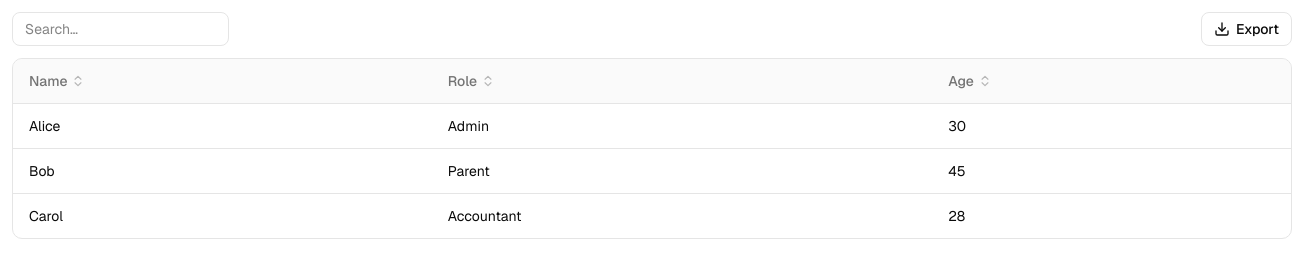
Test: DataTable › filters rows by global filter
The width and height of the screenshot is (1304, 256).
Type "Alice" into the search field.
click(120, 29); type("Alice")  # box [12,12,229,46]
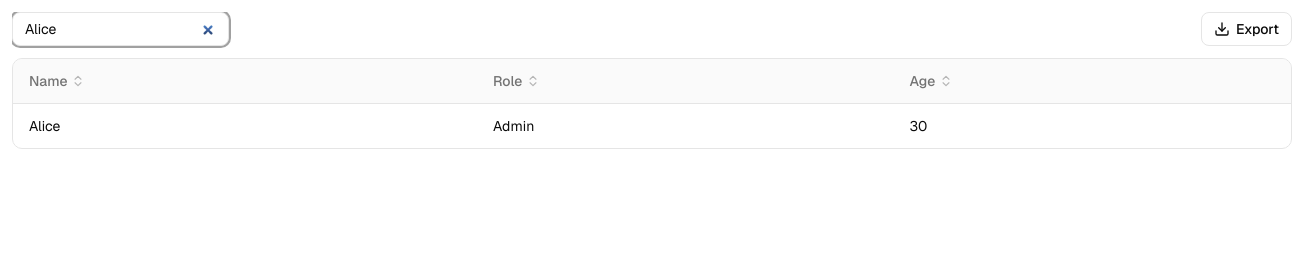
Check: the text "Alice" is shown, box [13,104,477,148]
Check: the text "Bob" is gone
